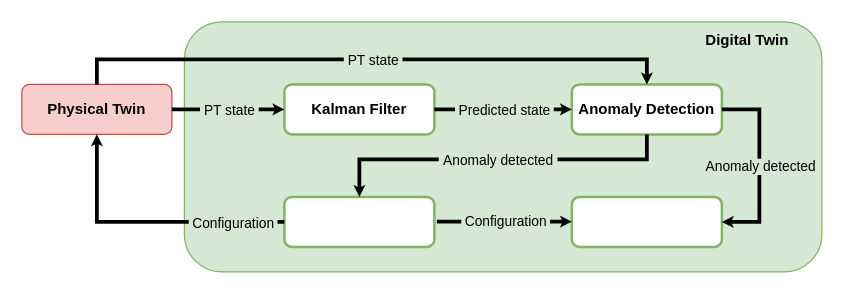
Some shapes in this 844 by 294 pixel diagram are drawn without their labels. Each missing label, with the box of its shape:
Energy Saver: (282, 195, 435, 248)
Runtime Verification: (570, 195, 722, 248)
